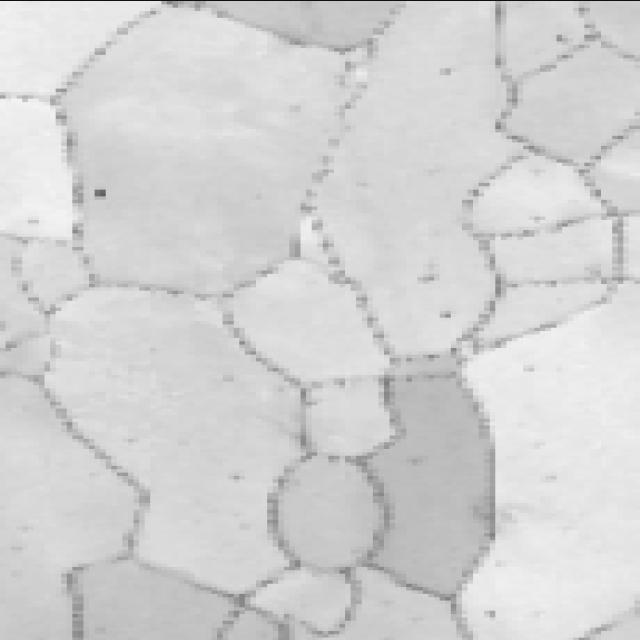good_void: (414, 262, 444, 282), (481, 605, 502, 624), (435, 61, 456, 79), (550, 29, 574, 44), (89, 184, 108, 202), (223, 470, 254, 481), (527, 212, 551, 224), (435, 308, 456, 320), (517, 361, 535, 374)
